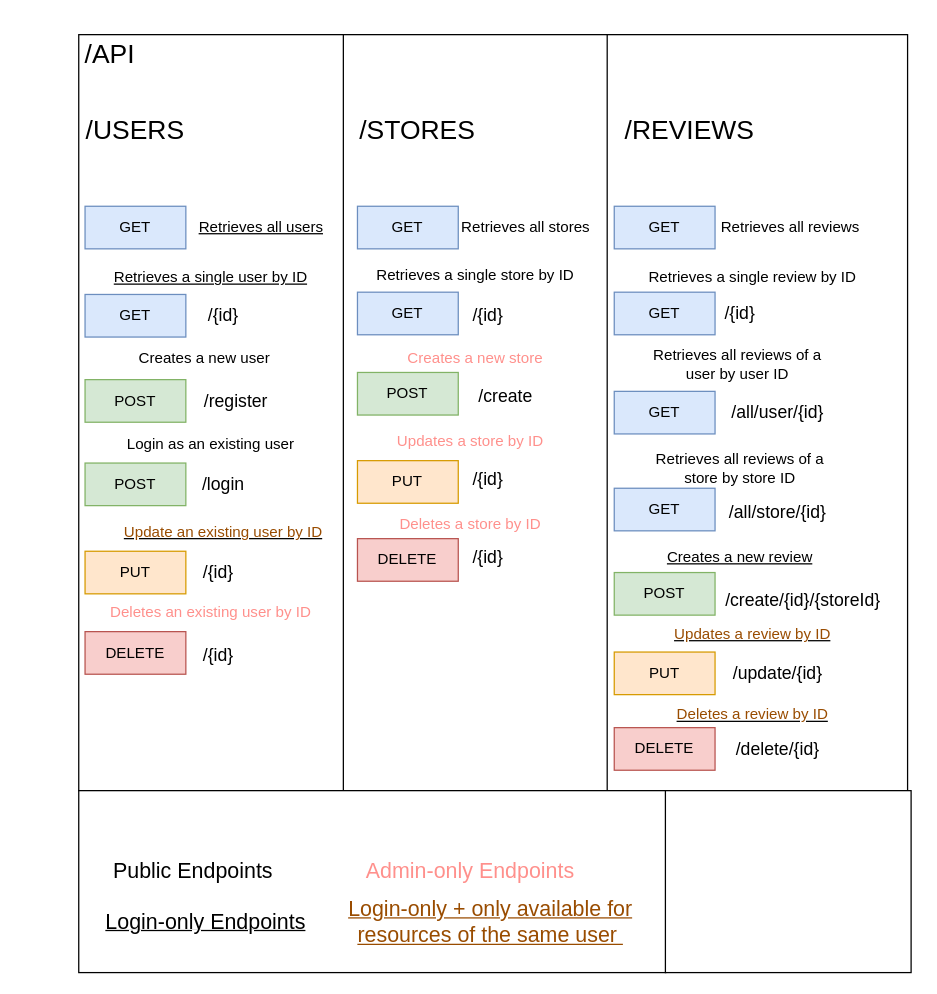
Some shapes in this 937 by 994 pixel diagram are drawn without their labels. Each missing label, with the centre of its shape:
For more information, please refer to the Authentication + Cookies section: the point at 787,881
PERMISSIONS: the point at 371,881
